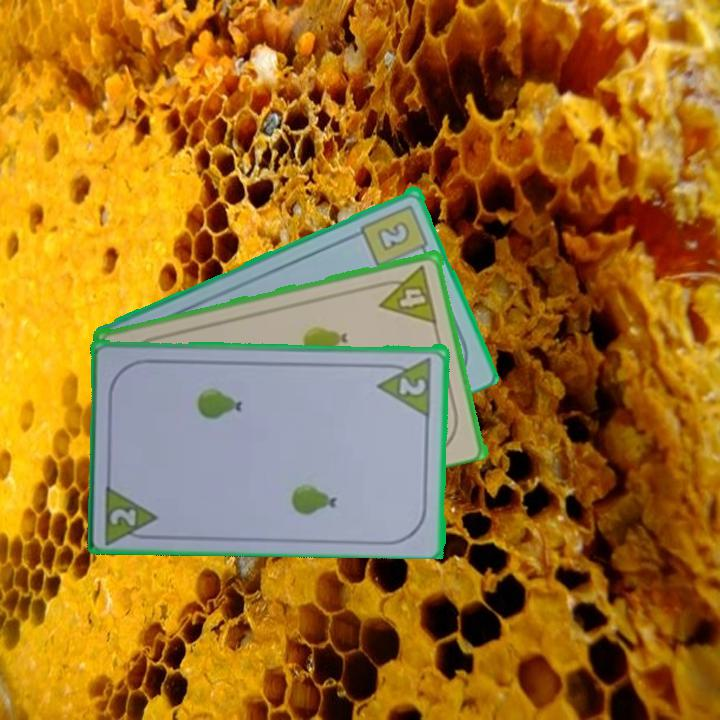2b: (358, 200, 432, 269)
2p: (101, 479, 162, 544), (396, 374, 429, 398)
4p: (373, 261, 440, 326)
